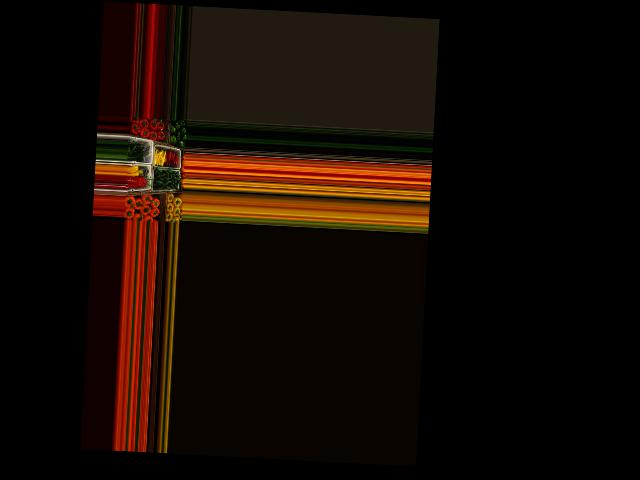bell_pepper: (167, 124, 179, 134)
